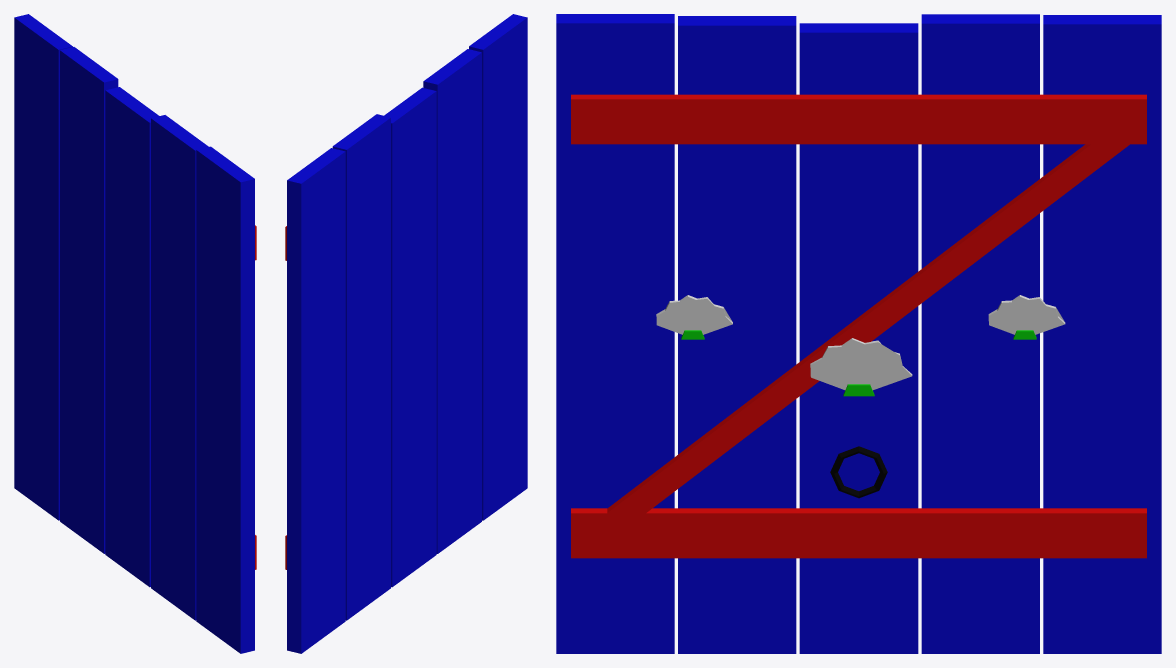
The model's file is SM_TN_PuertaHoja.fbx.
3 views of the same model, side by side, from view 1: azimuth 30°, elevation 25°; view 2: azimuth 150°, elevation 25°; view 3: azimuth 270°, elevation 25° (orthographic). The views are drawn at different scales.
Parts seen in each view (by area): view 1: SM_TN_PuertaHoja; view 2: SM_TN_PuertaHoja; view 3: SM_TN_PuertaHoja.
Boxes of the visible parts, x1,y1,x2,y2 form: SM_TN_PuertaHoja: (14, 14, 256, 653); SM_TN_PuertaHoja: (285, 14, 527, 653); SM_TN_PuertaHoja: (556, 14, 1161, 653).
Size of what is drawn, in the model's own units: 14.9 by 251 by 219.
